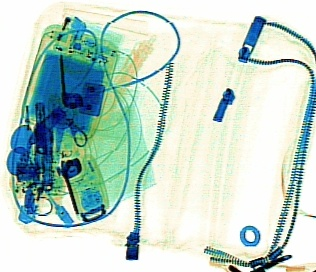lighter: (47, 14, 87, 101)
